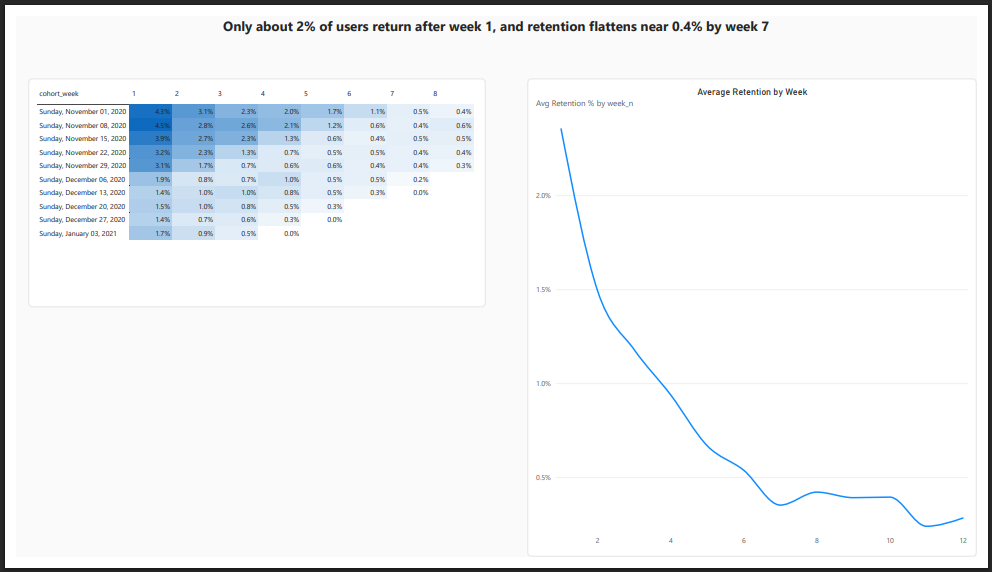

Layout of this report page (visuals, bound fields, positions):
{"tool":"powerbi","page":{"name":"Retention","canvas":[1920,1080],"ordinal":1},"visuals":[{"type":"pivotTable","fields":{"Columns":["retention_cohorts.week_n"],"Rows":["retention_cohorts.cohort_week"],"Values":["retention_cohorts.Retention %"]},"box":[25,124.9,913.1,456.5],"z":0},{"type":"textbox","box":[0,0,1919.3,38.6],"z":1000},{"type":"lineChart","title":"Average Retention by Week","fields":{"Category":["retention_cohorts.week_n"],"Y":["retention_cohorts.Avg Retention %"]},"box":[1022.1,124.9,897.2,953.9],"z":2000}]}

Visuals, with their boxes in screenshot pixels (x1, y1, x2, y2), scaled from the page's 1920x1080 canvas onto the 992x572 screenshot:
pivotTable - retention_cohorts.week_n x retention_cohorts.cohort_week: bbox(13, 66, 485, 308)
textbox: bbox(0, 0, 991, 20)
"Average Retention by Week" lineChart: bbox(528, 66, 991, 571)
